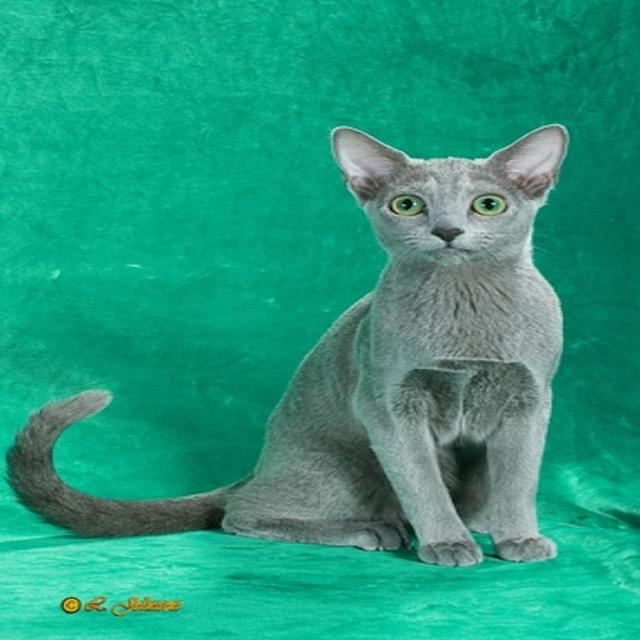Russian Blue: (2, 119, 576, 575)
